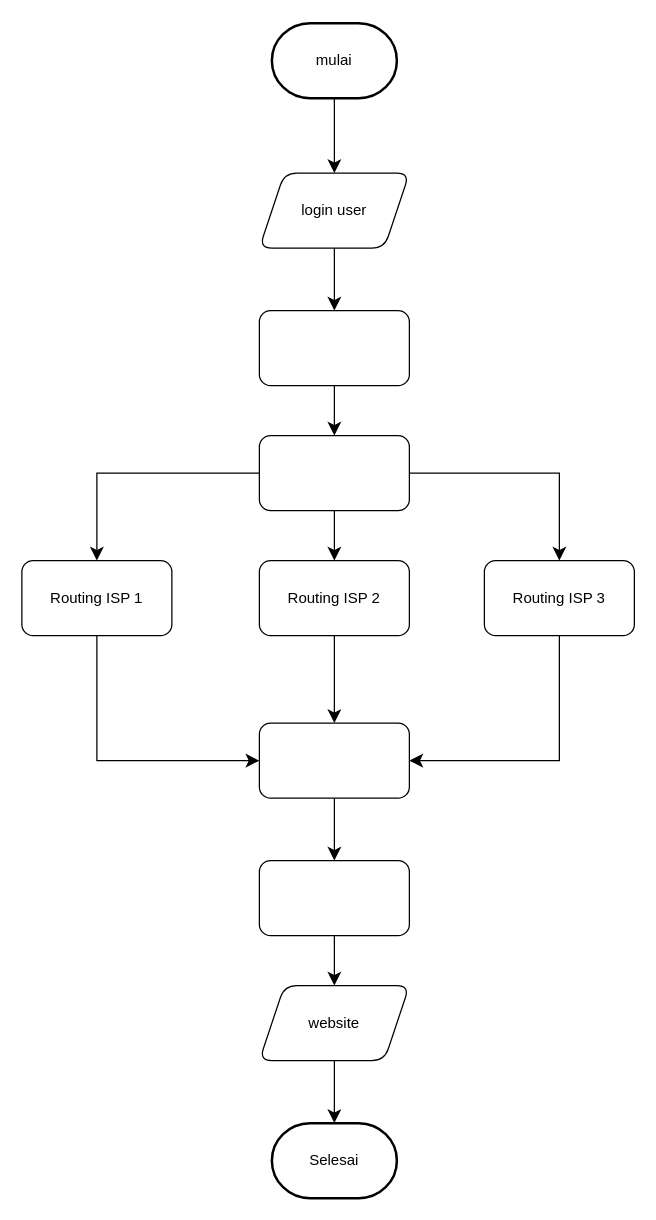
This 656x1220 diagram has some shape labels left out. Each missing label, with the centre of its shape:
Firewall NAT Masquerade: the point at 333,760
Out Interface 1/2/3: the point at 333,897
Routing: the point at 333,472
user dapat ip dari dhcp: the point at 333,347
